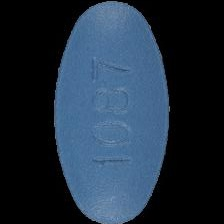0093-1087: (0, 0, 224, 224)
